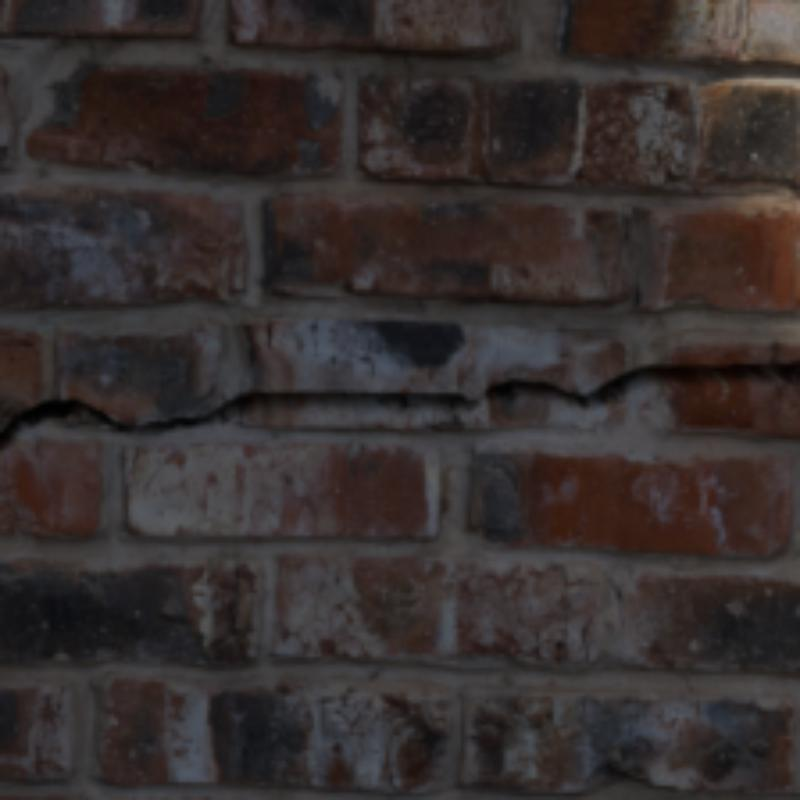pothole: (0, 361, 796, 450)
